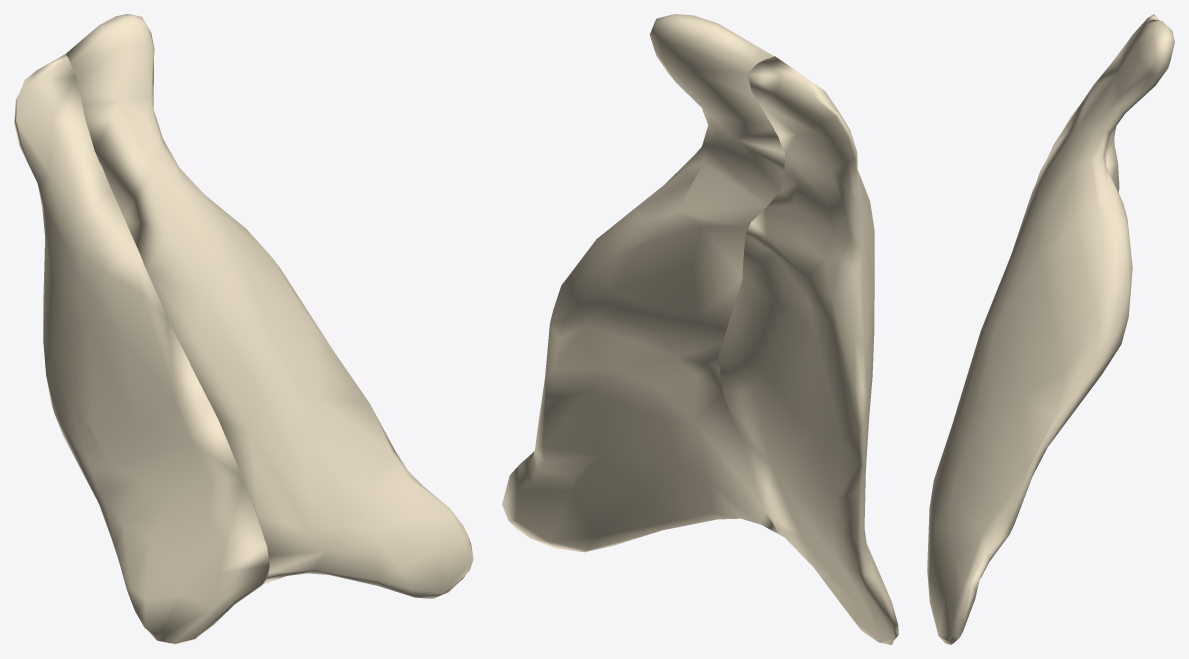
File: vh_f_thymus.glb
3 renders of one model, left to right at view 1: azimuth 30°, elevation 25°; view 2: azimuth 150°, elevation 25°; view 3: azimuth 270°, elevation 25°, orthographic. The views are drawn at different scales.
Parts seen in each view (by area): view 1: VH_F_thymus_lobe_L, VH_F_thymus_lobe_R; view 2: VH_F_thymus_lobe_L, VH_F_thymus_lobe_R; view 3: VH_F_thymus_lobe_L, VH_F_thymus_lobe_R.
Part boxes in pixels (<box>): VH_F_thymus_lobe_L: <box>66,14,473,598</box>; VH_F_thymus_lobe_R: <box>14,53,269,644</box>; VH_F_thymus_lobe_L: <box>502,14,784,552</box>; VH_F_thymus_lobe_R: <box>718,56,898,644</box>; VH_F_thymus_lobe_L: <box>927,19,1174,644</box>; VH_F_thymus_lobe_R: <box>1036,14,1158,192</box>.
Bounding box in the file's own units: 0.086 × 0.1235 × 0.0538.
